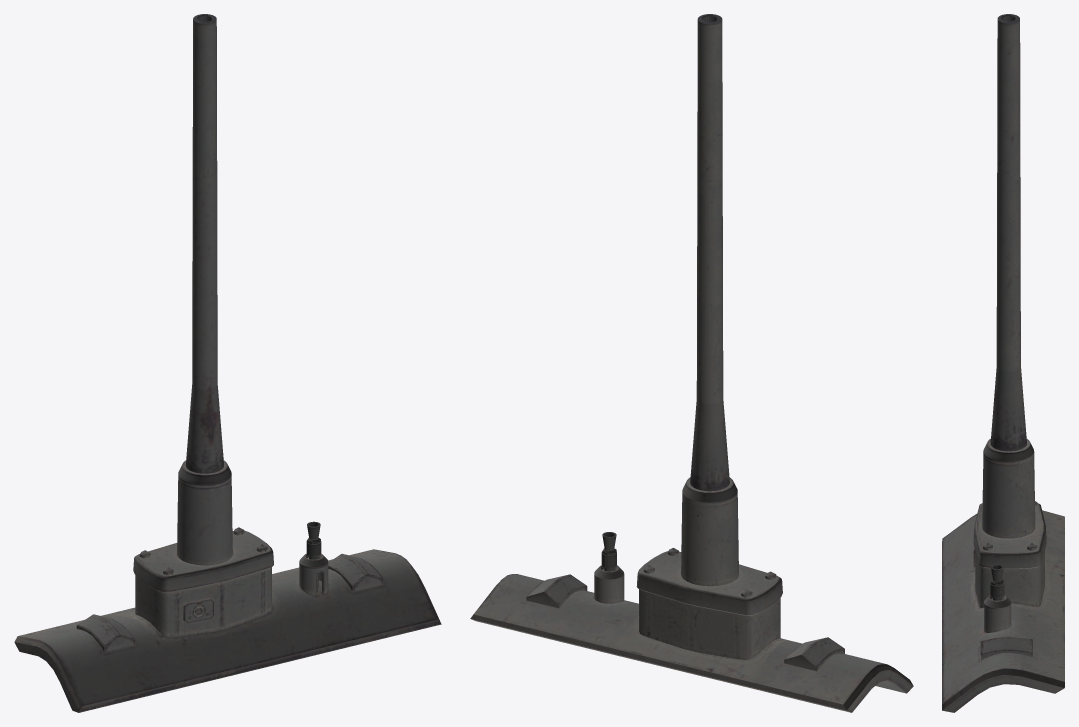
Rendered from Gun_03.glb.
The picture shows the model from 3 angles, left to right: view 1: azimuth 30°, elevation 25°; view 2: azimuth 150°, elevation 25°; view 3: azimuth 270°, elevation 25°; orthographic projection. The views are drawn at different scales.
Parts seen in each view (by area): view 1: set_0_group_0; view 2: set_0_group_0; view 3: set_0_group_0.
Boxes of the visible parts, x1,y1,x2,y2 form: set_0_group_0: (14,14,441,712); set_0_group_0: (470,14,913,712); set_0_group_0: (942,14,1064,712).
Bounding box in the file's own units: 1.43 × 2.38 × 0.4416.
1 material, 1 textured.
